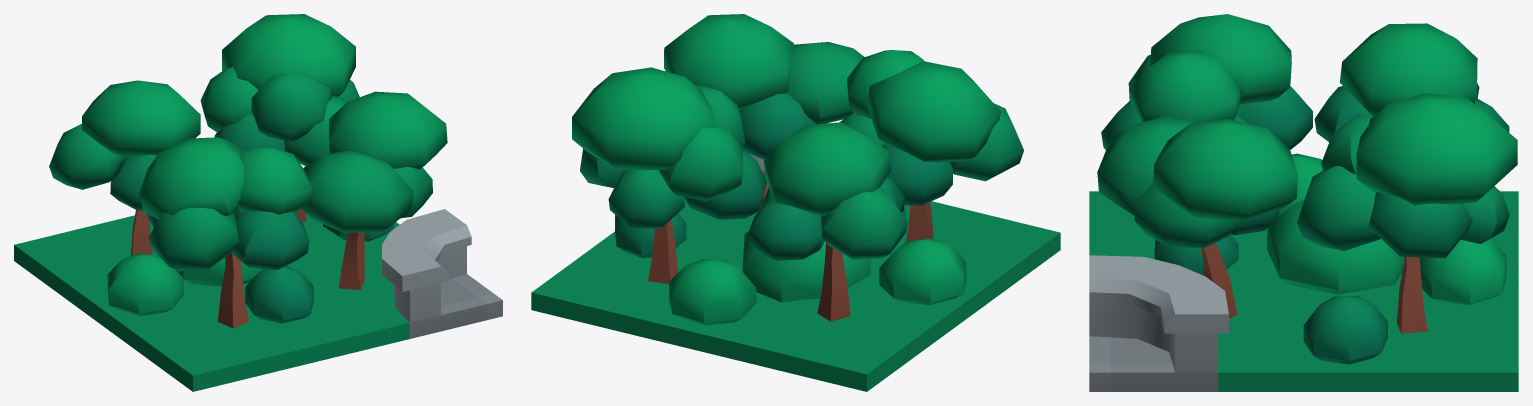
The model's file is park_wall_innerCorner_decorated.glb.
3 renders of one model, left to right at view 1: azimuth 30°, elevation 25°; view 2: azimuth 150°, elevation 25°; view 3: azimuth 270°, elevation 25°, orthographic. The views are drawn at different scales.
Parts seen in each view (by area): view 1: park_wall_innerCorner_decorated; view 2: park_wall_innerCorner_decorated; view 3: park_wall_innerCorner_decorated.
Boxes of the visible parts, x1,y1,x2,y2 form: park_wall_innerCorner_decorated: [14, 14, 502, 391]; park_wall_innerCorner_decorated: [531, 14, 1060, 391]; park_wall_innerCorner_decorated: [1089, 14, 1518, 391].
Bounding box in the file's own units: 2 × 1.28 × 2.
Materials: 1 (1 with a texture image).
